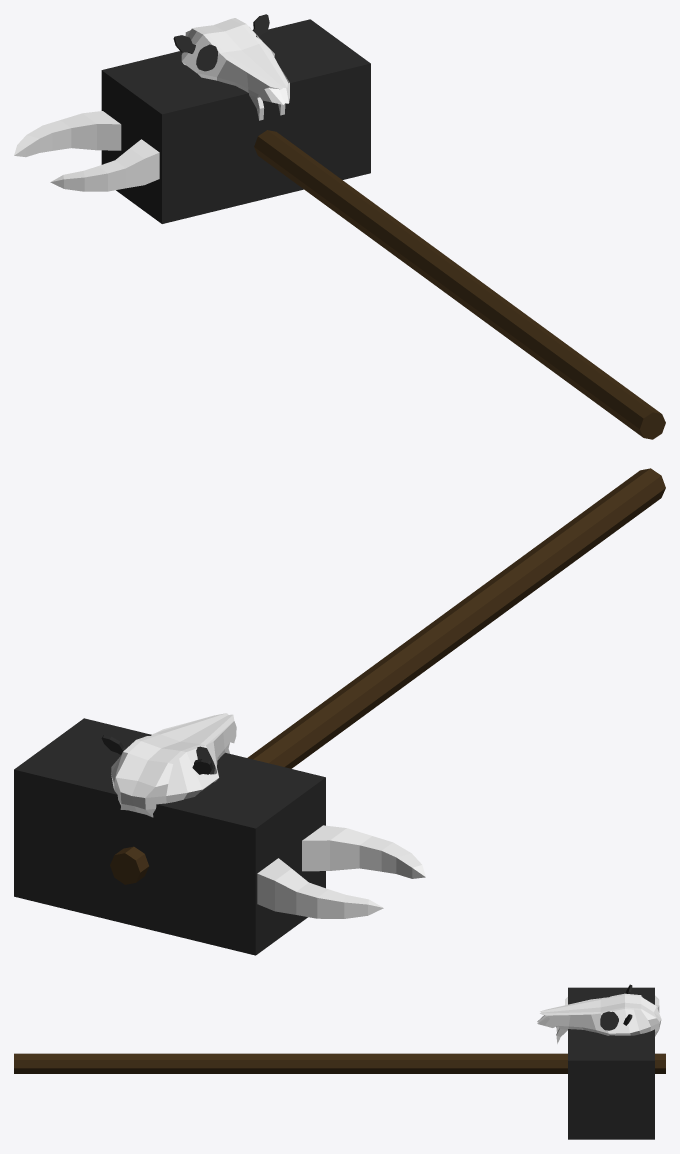
The model's file is TerrifyingSight.fbx.
The picture shows the model from 3 angles, top to bottom: view 1: azimuth 30°, elevation 25°; view 2: azimuth 150°, elevation 25°; view 3: azimuth 270°, elevation 25°; orthographic projection. The views are drawn at different scales.
Visible parts, largest first — view 1: TerrifyingSight_MESH; view 2: TerrifyingSight_MESH; view 3: TerrifyingSight_MESH.
Boxes of the visible parts, <box> form: TerrifyingSight_MESH: <box>14,14,665,439</box>; TerrifyingSight_MESH: <box>14,468,665,955</box>; TerrifyingSight_MESH: <box>14,984,665,1139</box>.
Size of the model in its own units: 1.18 by 0.518 by 3.
